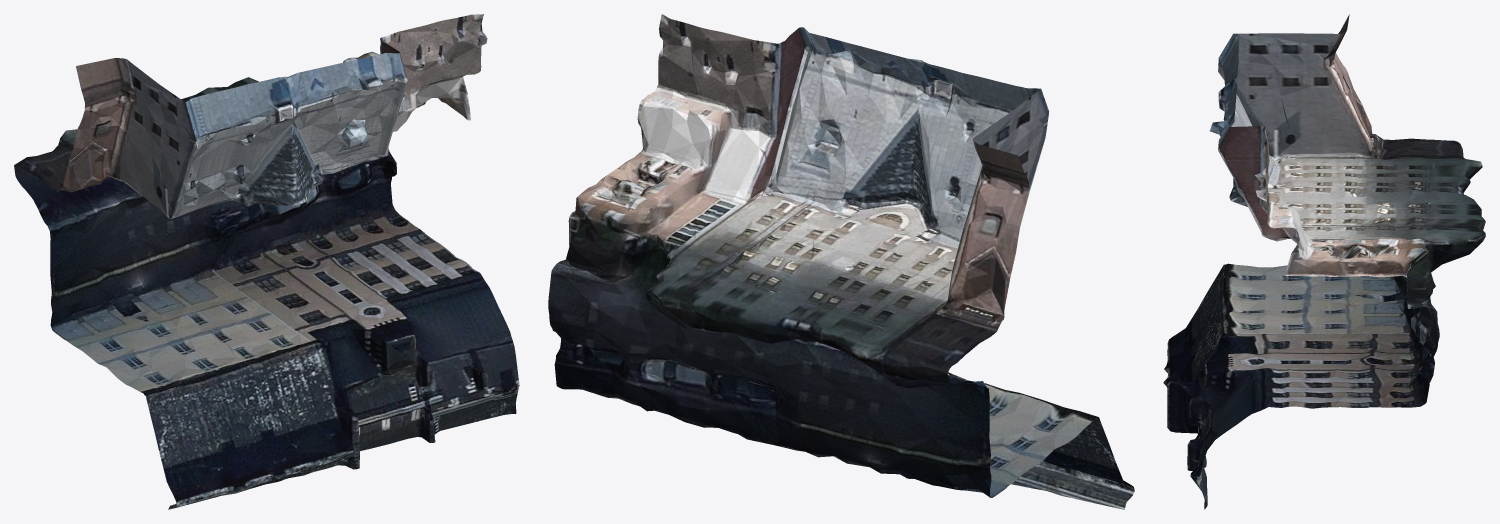
The model's file is Tile_+038_+020_L20_0002110.obj.
3 renders of one model, left to right at view 1: azimuth 30°, elevation 25°; view 2: azimuth 150°, elevation 25°; view 3: azimuth 270°, elevation 25°, orthographic. The views are drawn at different scales.
Bounding box in the file's own units: 31.5 × 31.5 × 27.24.
1 material, 1 textured.
